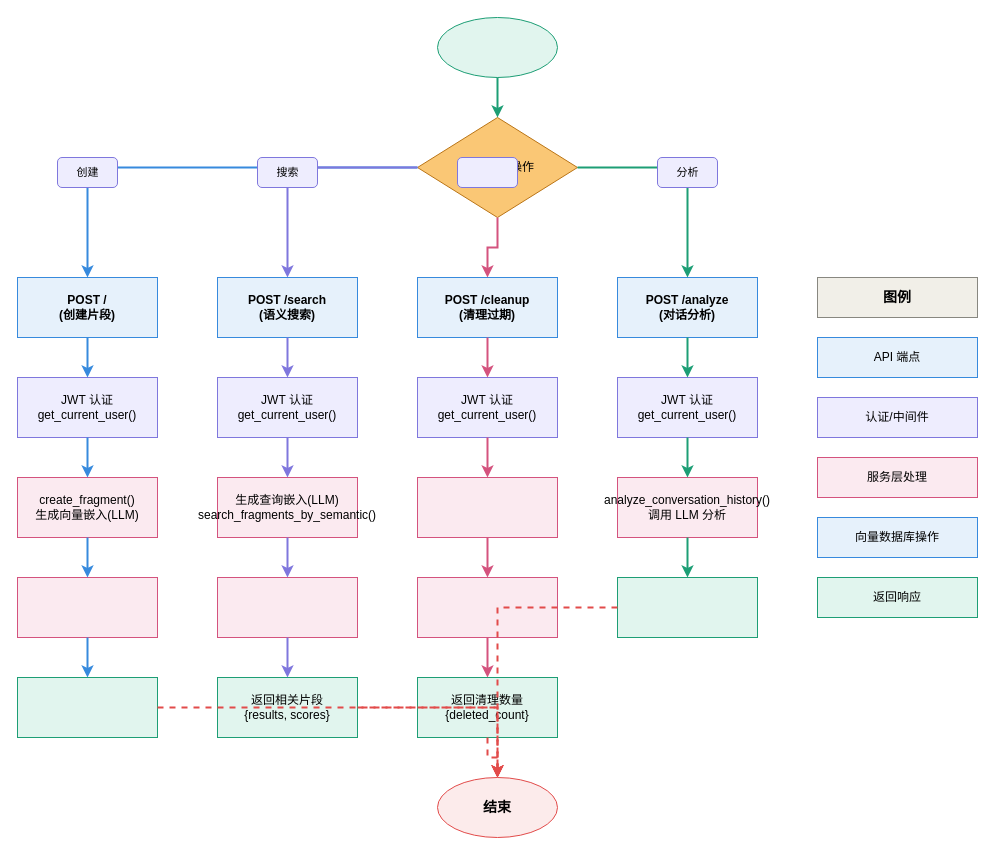
Image size: 995x855. Some labels were removed from this diagram. The centre of each missing label's shape, as x and y in pixels:
ChromaDB 向量搜索 计算相似度: pixel 287 607
cleanup_expired_fragments() 查询过期片段: pixel 487 507
删除过期片段 ChromaDB + SQLite: pixel 487 607
存储到 ChromaDB + SQLite: pixel 87 607
开始: pixel 497 47
清理: pixel 487 172
返回分析结果 {user_info, preferences}: pixel 687 607
返回片段 ID {fragment_id}: pixel 87 707
